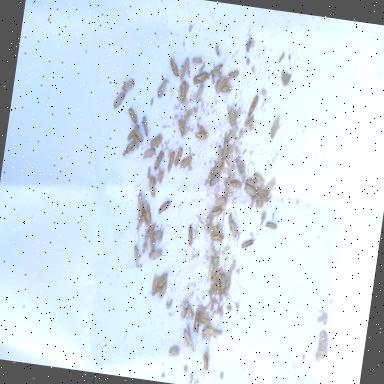pbw: (167, 47, 182, 77), (140, 201, 154, 230), (156, 194, 171, 220), (185, 224, 197, 254), (134, 210, 146, 240), (120, 74, 135, 98), (122, 106, 140, 124), (146, 176, 159, 200), (214, 144, 226, 170), (214, 74, 228, 96), (181, 328, 195, 350), (148, 246, 167, 262), (176, 80, 188, 105), (147, 273, 159, 297), (134, 192, 145, 218), (149, 130, 163, 150), (126, 122, 140, 142), (152, 148, 164, 171), (192, 70, 209, 86), (130, 244, 142, 266), (144, 220, 156, 242), (156, 78, 168, 100), (112, 90, 125, 110), (248, 93, 258, 119), (192, 310, 202, 336), (232, 156, 246, 174), (220, 76, 234, 94), (122, 138, 136, 156), (225, 106, 237, 126), (158, 268, 170, 288), (173, 145, 183, 168), (176, 118, 188, 137), (240, 237, 256, 251), (178, 154, 192, 170), (210, 266, 224, 282), (142, 146, 156, 162), (201, 348, 211, 370), (157, 280, 167, 302), (210, 62, 224, 77), (207, 256, 215, 282), (166, 150, 175, 173), (228, 219, 238, 239), (140, 116, 150, 136), (178, 300, 188, 320), (265, 176, 277, 192), (208, 172, 220, 188), (218, 272, 227, 293), (226, 125, 237, 142), (243, 184, 257, 197), (253, 172, 266, 186), (198, 313, 212, 326), (147, 232, 156, 252), (207, 232, 225, 242), (221, 138, 230, 158), (178, 58, 186, 80), (156, 166, 166, 183), (133, 129, 145, 143), (207, 244, 218, 259), (194, 84, 204, 100), (214, 195, 226, 208), (193, 131, 206, 143), (228, 179, 242, 190), (184, 57, 192, 76), (185, 304, 195, 319), (202, 325, 214, 337), (151, 229, 163, 240), (263, 221, 277, 230), (227, 70, 239, 80), (198, 126, 208, 138), (256, 186, 269, 195), (212, 329, 224, 338), (212, 207, 222, 217), (244, 178, 256, 186), (192, 56, 202, 65), (155, 284, 162, 295), (133, 142, 139, 148)
